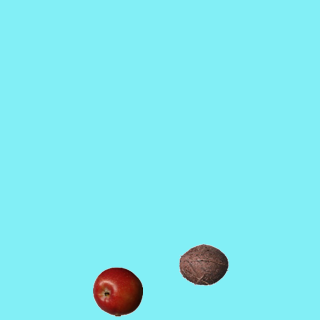Apple Braeburn: (92, 266, 142, 316)
Cocos: (178, 239, 228, 289)
